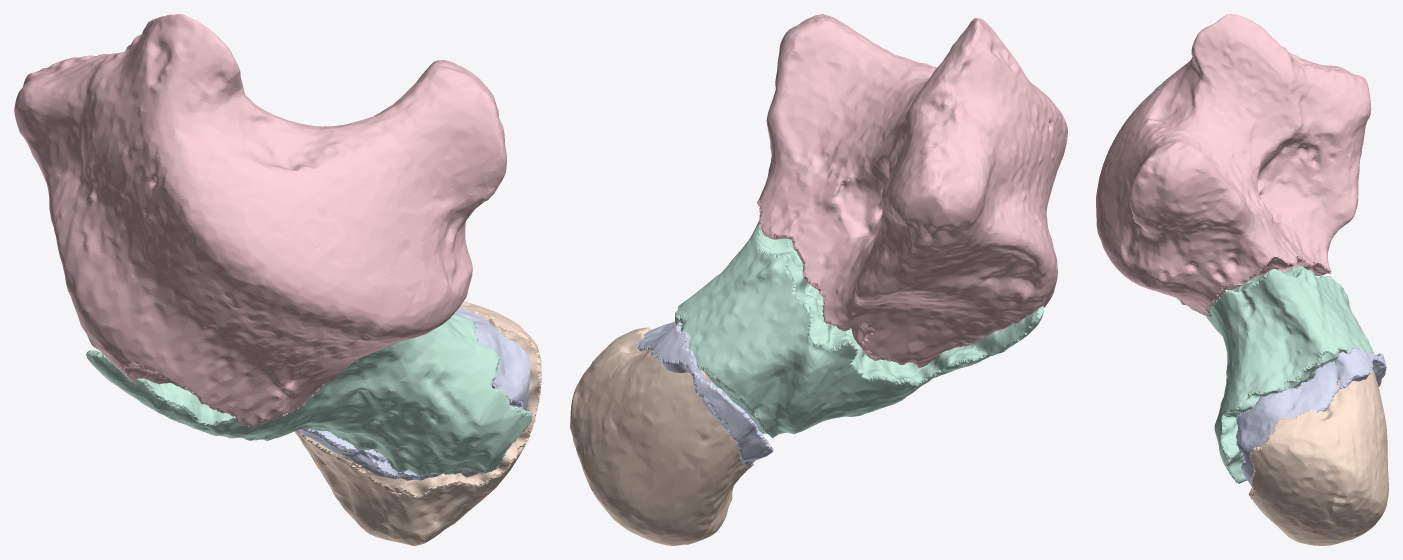
Rendered from AMNH_216242_Galago-crassicaudatus_Left-Ast_Smooth_colored.glb.
The picture shows the model from 3 angles, left to right: view 1: azimuth 30°, elevation 25°; view 2: azimuth 150°, elevation 25°; view 3: azimuth 270°, elevation 25°; orthographic projection. The views are drawn at different scales.
Visible parts, largest first — view 1: world; view 2: world; view 3: world.
Part boxes in pixels (box(x1,y1,x2,y2)): world: box(14, 14, 541, 545); world: box(570, 14, 1067, 545); world: box(1096, 14, 1388, 545).
Size of the model in its own units: 0.7472 by 0.9098 by 0.559.
